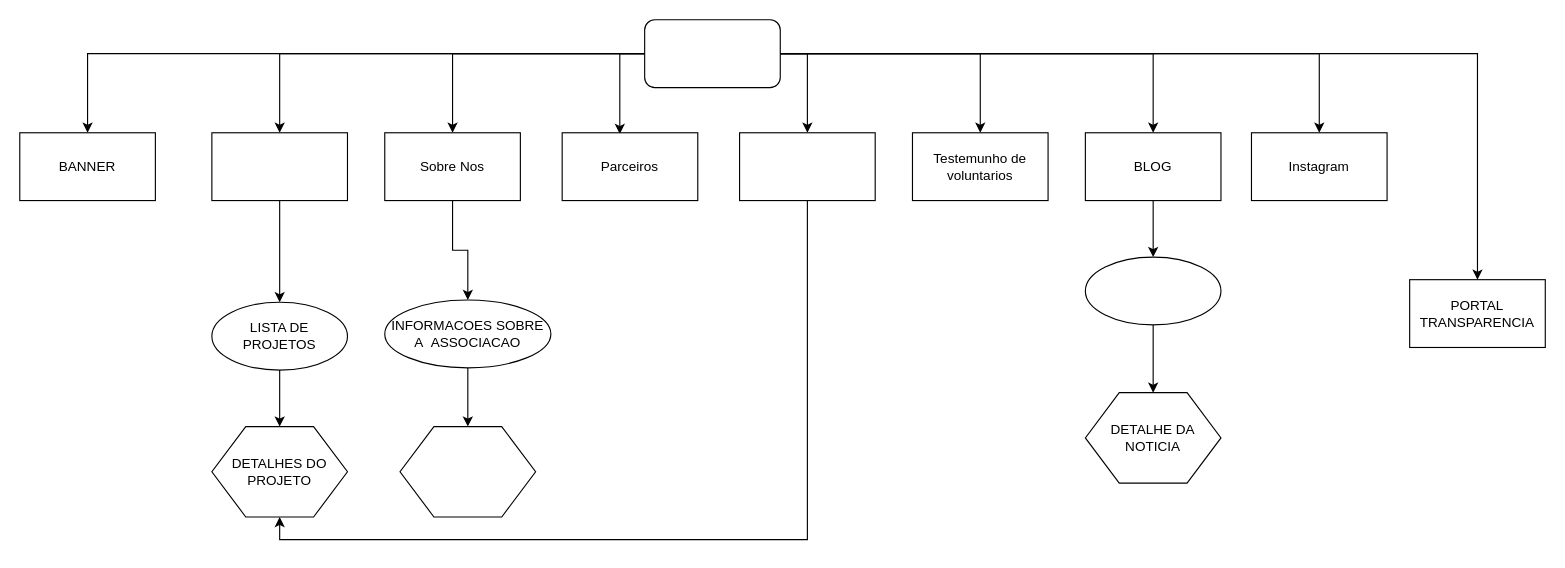
Some shapes in this 1565 by 568 pixel diagram are drawn without their labels. Here are the shapes that lost their labels. From the top down, the box of each, then its label:
(644, 19, 780, 88): PAGINA INICIAL
(211, 132, 347, 201): Link para os Projetos
(738, 132, 875, 201): Projetos Realizados
(1084, 256, 1221, 325): LISTA DE NOVIDADES
(399, 425, 536, 517): DADOS PARA CONTATO
